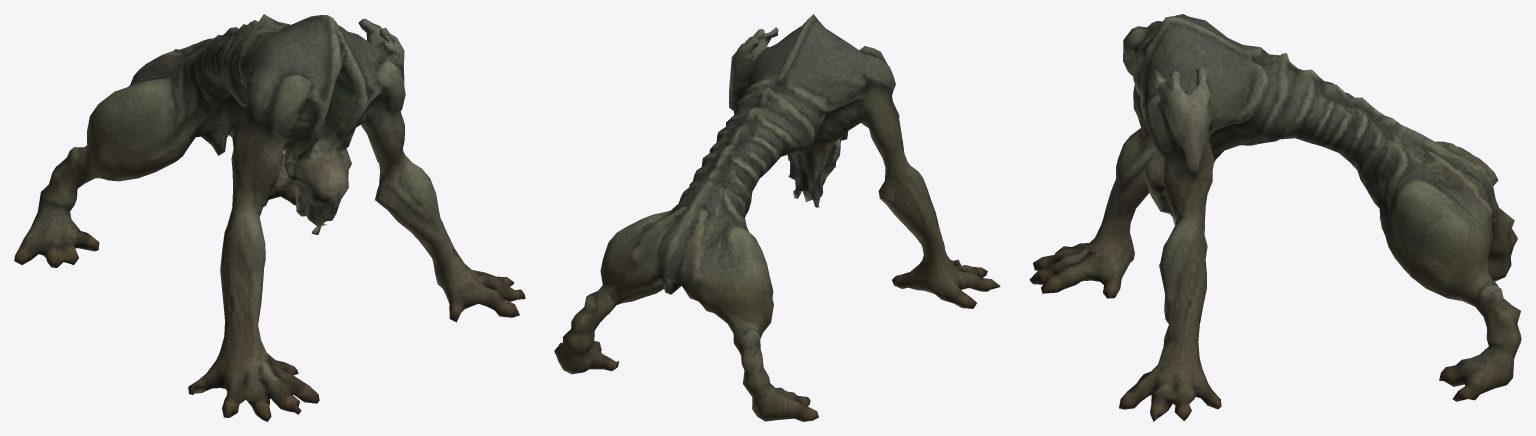
File: vaal_husk_v1.glb
The picture shows the model from 3 angles, left to right: view 1: azimuth 30°, elevation 25°; view 2: azimuth 150°, elevation 25°; view 3: azimuth 270°, elevation 25°; orthographic projection. The views are drawn at different scales.
Parts seen in each view (by area): view 1: husk; view 2: husk; view 3: husk.
Boxes of the visible parts, box(x1,y1,x2,y2) form: husk: box(14, 14, 525, 421); husk: box(554, 14, 1000, 421); husk: box(1029, 14, 1521, 421).
Size of the model in its own units: 0.8191 by 0.7132 by 1.
1 material, 1 textured.
